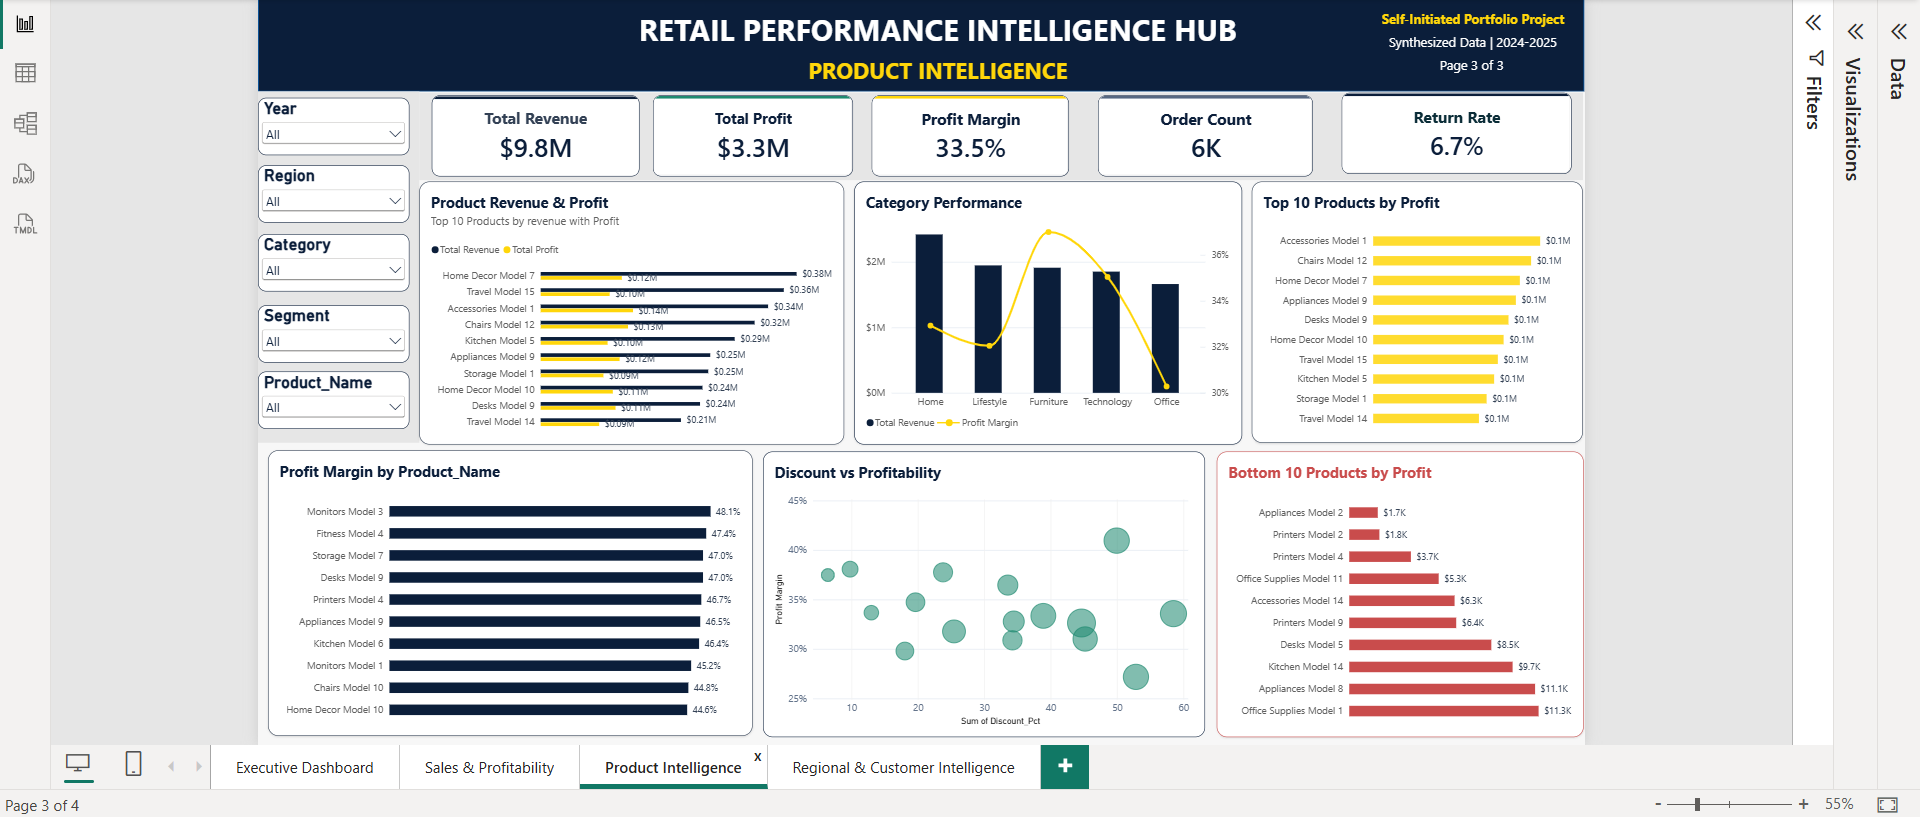

The page's visual inventory and layout, read from the dashboard file:
{"tool":"powerbi","page":{"name":"Product Intelligence","canvas":[1920,1080],"ordinal":2},"visuals":[{"type":"shape","box":[0,0,1920.1,133.9],"z":0},{"type":"textbox","box":[515.8,14.5,937.4,67],"z":1000},{"type":"textbox","box":[515.8,81.4,937.4,67],"z":2000},{"type":"textbox","box":[1597.9,16.3,322.1,32.6],"z":3000},{"type":"textbox","box":[1597.9,48.9,322.1,32.6],"z":4000},{"type":"textbox","box":[1596.9,83.1,322.1,32.6],"z":5000},{"type":"shape","box":[0,133.9,233.4,508.5],"z":6000},{"type":"slicer","fields":{"Values":["Date.Year"]},"box":[0,143,219,83.2],"z":7000},{"type":"slicer","fields":{"Values":["Orders.Region"]},"box":[0,240.7,219,83.2],"z":8000},{"type":"slicer","fields":{"Values":["Orders.Category"]},"box":[0,340.2,219,83.2],"z":9000},{"type":"slicer","fields":{"Values":["Orders.Segment"]},"box":[0,443.4,219,83.2],"z":10000},{"type":"slicer","fields":{"Values":["Products.Product_Name"]},"box":[0,539.3,219,83.2],"z":11000},{"type":"shape","box":[233.4,135.7,1684.8,126.7],"z":12000},{"type":"cardVisual","fields":{"Data":["Orders.Total Revenue"]},"box":[251.5,139.3,300.4,117.6],"z":13000},{"type":"cardVisual","fields":{"Data":["Orders.Total Profit"]},"box":[571.9,139.3,289.5,117.6],"z":14000},{"type":"cardVisual","fields":{"Data":["Orders.Profit Margin"]},"box":[888.5,139.3,285.9,117.6],"z":15000},{"type":"cardVisual","fields":{"Data":["Orders.Order Count"]},"box":[1216.1,139.3,311.3,117.6],"z":16000},{"type":"cardVisual","fields":{"Data":["Orders.Return Rate"]},"box":[1569,135.7,333,117.6],"z":17000},{"type":"clusteredBarChart","title":"Product Revenue & Profit","fields":{"Category":["Orders.Product_Name"],"Y":["Orders.Total Revenue","Orders.Total Profit"]},"box":[232.6,263.5,615.4,380.8],"z":17001},{"type":"lineClusteredColumnComboChart","title":"Category Performance","fields":{"Category":["Orders.Category"],"Y":["Orders.Total Revenue"],"Y2":["Orders.Profit Margin"]},"box":[862.4,263.5,561.9,380.8],"z":17002},{"type":"clusteredBarChart","title":"Top 10 Products by Profit","fields":{"Category":["Orders.Product_Name"],"Y":["Orders.Total Profit"]},"box":[1438.8,263.5,479.6,378.7],"z":17003},{"type":"clusteredBarChart","fields":{"Category":["Orders.Product_Name"],"Y":["Orders.Profit Margin"]},"box":[14.4,652.5,701.9,413.7],"z":17004},{"type":"scatterChart","title":"Discount vs Profitability","fields":{"X":["Sum(Orders.Discount_Pct)"],"Y":["Orders.Profit Margin"],"Size":["Orders.Total Revenue"],"Category":["Products.Subcategory"]},"box":[730.7,654.5,640.1,413.7],"z":17005},{"type":"clusteredBarChart","title":"Bottom 10 Products by Profit","fields":{"Category":["Orders.Product_Name"],"Y":["Orders.Total Profit"]},"box":[1387.3,654.5,531,413.7],"z":17006}]}

Visuals, with their boxes on the page's 1920x1080 design canvas (x1, y1, x2, y2). These are canvas units, not pixel positions in the 1920x817 screenshot, which may show the page scaled, cropped or inside an application window:
shape: region(0, 0, 1920, 134)
textbox: region(516, 14, 1453, 82)
textbox: region(516, 81, 1453, 148)
textbox: region(1598, 16, 1920, 49)
textbox: region(1598, 49, 1920, 82)
textbox: region(1597, 83, 1919, 116)
shape: region(0, 134, 233, 642)
slicer - Date.Year: region(0, 143, 219, 226)
slicer - Orders.Region: region(0, 241, 219, 324)
slicer - Orders.Category: region(0, 340, 219, 423)
slicer - Orders.Segment: region(0, 443, 219, 527)
slicer - Products.Product_Name: region(0, 539, 219, 622)
shape: region(233, 136, 1918, 262)
cardVisual - Orders.Total Revenue: region(252, 139, 552, 257)
cardVisual - Orders.Total Profit: region(572, 139, 861, 257)
cardVisual - Orders.Profit Margin: region(888, 139, 1174, 257)
cardVisual - Orders.Order Count: region(1216, 139, 1527, 257)
cardVisual - Orders.Return Rate: region(1569, 136, 1902, 253)
"Product Revenue & Profit" clusteredBarChart: region(233, 264, 848, 644)
"Category Performance" lineClusteredColumnComboChart: region(862, 264, 1424, 644)
"Top 10 Products by Profit" clusteredBarChart: region(1439, 264, 1918, 642)
clusteredBarChart - Orders.Product_Name x Orders.Profit Margin: region(14, 652, 716, 1066)
"Discount vs Profitability" scatterChart: region(731, 654, 1371, 1068)
"Bottom 10 Products by Profit" clusteredBarChart: region(1387, 654, 1918, 1068)
